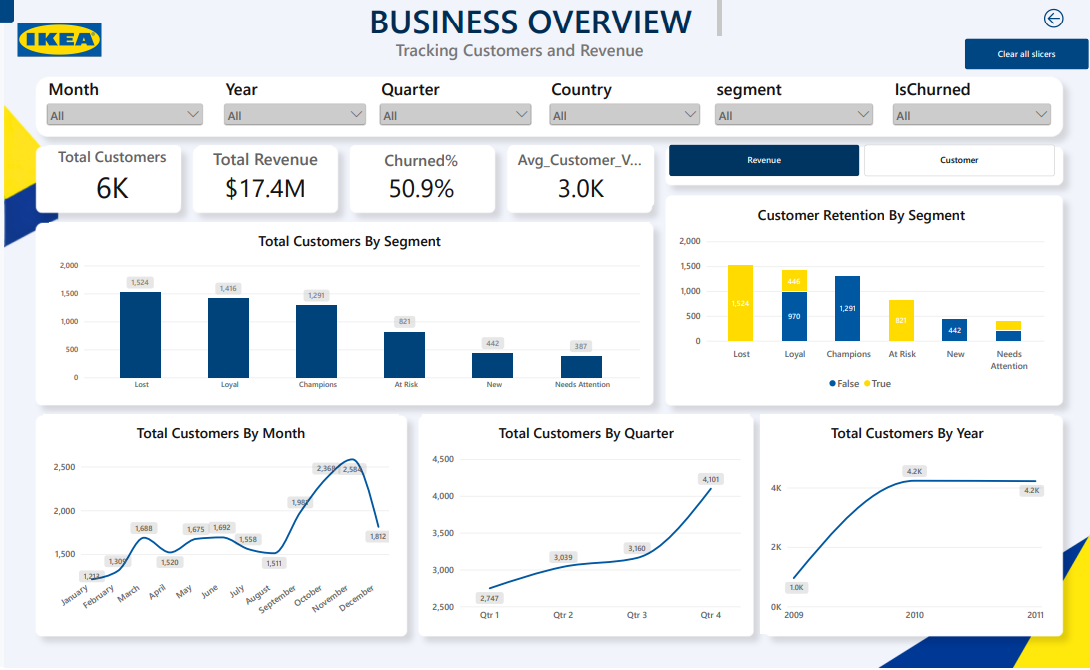

The page's visual inventory and layout, read from the dashboard file:
{"tool":"powerbi","page":{"name":"Business Overview","canvas":[1920,1080],"ordinal":1},"visuals":[{"type":"cardVisual","fields":{"Data":["Sheet1.Total Customers"]},"box":[147.9,238.6,221.9,100.2],"z":0},{"type":"columnChart","title":"Total Customers By Segment","fields":{"Category":["Sheet1.segment"],"Y":["Sheet1.Total Customers"]},"box":[157.4,362.7,968.7,291.1],"z":0,"group":"g1"},{"type":"cardVisual","fields":{"Data":["Sheet1.Total Revenue"]},"box":[393.7,238.6,224.3,100.2],"z":1000},{"type":"columnChart","title":"Customer Retention By Segment","fields":{"Category":["Sheet1.segment"],"Series":["Sheet1.IsChurned"],"Y":["Sheet1.Total Customers"]},"box":[1157.1,322.1,620.3,331.6],"z":1000,"group":"g1"},{"type":"cardVisual","fields":{"Data":["Sheet1.Churned%"]},"box":[641.8,238.6,231.4,100.2],"z":2000},{"type":"lineChart","title":"Total Customers By Year","fields":{"Category":["Sheet1.InvoiceDate.Variation.Date Hierarchy.Year"],"Y":["Sheet1.Total Customers"]},"box":[1305.1,672.8,472.4,353.1],"z":2000,"group":"g1"},{"type":"cardVisual","fields":{"Data":["Sheet1.Avg_Customer_Value"]},"box":[897.1,238.6,236.2,100.2],"z":3000},{"type":"lineChart","title":"Total Customers By Quarter","fields":{"Category":["Sheet1.InvoiceDate.Variation.Date Hierarchy.Quarter"],"Y":["Sheet1.Total Customers"]},"box":[758.7,672.8,529.7,353.1],"z":3000,"group":"g1"},{"type":"slicer","fields":{"Values":["Sheet1.Country"]},"box":[959.1,128.8,252.9,88.3],"z":4000},{"type":"lineChart","title":"Total Customers By Month","fields":{"Category":["Sheet1.InvoiceDate.Variation.Date Hierarchy.Month"],"Y":["Sheet1.Total Customers"]},"box":[147.9,672.8,572.6,353.1],"z":4000,"group":"g1"},{"type":"slicer","fields":{"Values":["Sheet1.InvoiceDate.Variation.Date Hierarchy.Quarter"]},"box":[684.8,128.8,255.3,88.3],"z":5000},{"type":"slicer","fields":{"Values":["Sheet1.InvoiceDate.Variation.Date Hierarchy.Year"]},"box":[434.2,128.8,238.6,88.3],"z":6000},{"type":"slicer","fields":{"Values":["Sheet1.InvoiceDate.Variation.Date Hierarchy.Month"]},"box":[147.9,128.8,262.5,88.3],"z":7000},{"type":"slicer","fields":{"Values":["Sheet1.segment"]},"box":[1226.4,128.8,264.8,88.3],"z":8000},{"type":"slicer","fields":{"Values":["Sheet1.IsChurned"]},"box":[1512.7,128.8,264.8,88.3],"z":9000},{"type":"group","id":"g1","title":"Customer","box":[147.9,322.1,1629.6,703.8],"z":10000},{"type":"actionButton","box":[0,0,100,40],"z":12000},{"type":"actionButton","box":[0,0,100,40],"z":13000},{"type":"actionButton","box":[0,0,100,40],"z":14000},{"type":"actionButton","box":[0,0,100,40],"z":15000},{"type":"bookmarkNavigator","box":[1156.8,237.7,622,51.5],"z":16000},{"type":"image","box":[85.9,0,174.2,136],"z":17000},{"type":"textbox","box":[632.3,0,610.8,66.8],"z":18000},{"type":"textbox","box":[715.8,66.8,572.6,42.9],"z":19000},{"type":"actionButton","box":[1720.2,0,114.5,66.8],"z":20000},{"type":"actionButton","box":[1634.4,66.8,200,50],"z":21000}]}

Visuals, with their boxes on the page's 1920x1080 design canvas (x1, y1, x2, y2). These are canvas units, not pixel positions in the 1090x670 screenshot, which may show the page scaled, cropped or inside an application window:
cardVisual - Sheet1.Total Customers: <bbox>148, 239, 370, 339</bbox>
"Total Customers By Segment" columnChart: <bbox>157, 363, 1126, 654</bbox>
cardVisual - Sheet1.Total Revenue: <bbox>394, 239, 618, 339</bbox>
"Customer Retention By Segment" columnChart: <bbox>1157, 322, 1777, 654</bbox>
cardVisual - Sheet1.Churned%: <bbox>642, 239, 873, 339</bbox>
"Total Customers By Year" lineChart: <bbox>1305, 673, 1778, 1026</bbox>
cardVisual - Sheet1.Avg_Customer_Value: <bbox>897, 239, 1133, 339</bbox>
"Total Customers By Quarter" lineChart: <bbox>759, 673, 1288, 1026</bbox>
slicer - Sheet1.Country: <bbox>959, 129, 1212, 217</bbox>
"Total Customers By Month" lineChart: <bbox>148, 673, 720, 1026</bbox>
slicer - Sheet1.InvoiceDate.Variation.Date Hierarchy.Quarter: <bbox>685, 129, 940, 217</bbox>
slicer - Sheet1.InvoiceDate.Variation.Date Hierarchy.Year: <bbox>434, 129, 673, 217</bbox>
slicer - Sheet1.InvoiceDate.Variation.Date Hierarchy.Month: <bbox>148, 129, 410, 217</bbox>
slicer - Sheet1.segment: <bbox>1226, 129, 1491, 217</bbox>
slicer - Sheet1.IsChurned: <bbox>1513, 129, 1778, 217</bbox>
"Customer" group: <bbox>148, 322, 1778, 1026</bbox>
actionButton: <bbox>0, 0, 100, 40</bbox>
actionButton: <bbox>0, 0, 100, 40</bbox>
actionButton: <bbox>0, 0, 100, 40</bbox>
actionButton: <bbox>0, 0, 100, 40</bbox>
bookmarkNavigator: <bbox>1157, 238, 1779, 289</bbox>
image: <bbox>86, 0, 260, 136</bbox>
textbox: <bbox>632, 0, 1243, 67</bbox>
textbox: <bbox>716, 67, 1288, 110</bbox>
actionButton: <bbox>1720, 0, 1835, 67</bbox>
actionButton: <bbox>1634, 67, 1834, 117</bbox>
